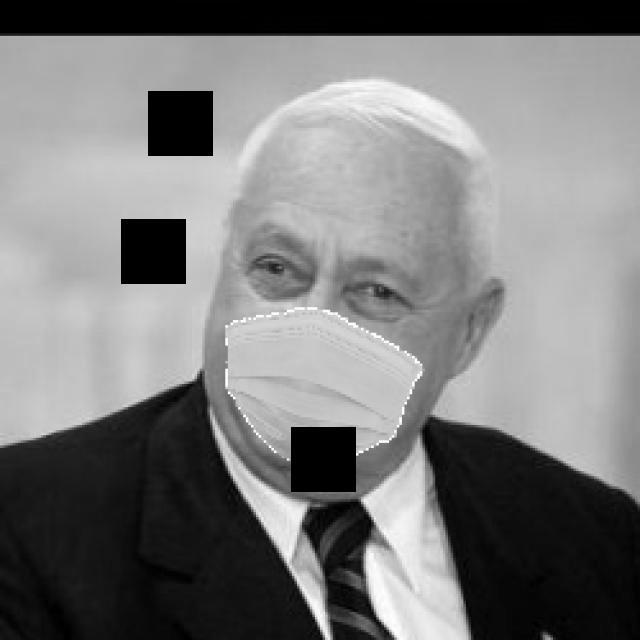surgical: (211, 161, 443, 466)
